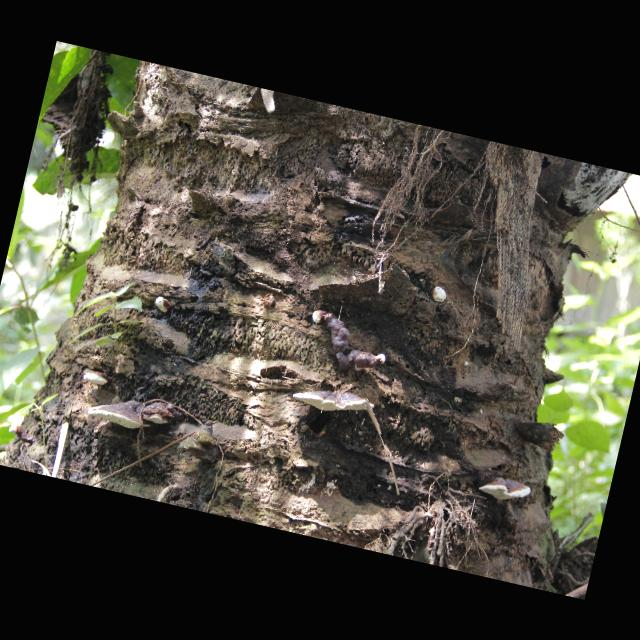ganoderma: (314, 313, 384, 380), (291, 380, 377, 424), (86, 392, 157, 435), (478, 474, 534, 509), (141, 398, 186, 430), (83, 369, 114, 388)
primordium: (154, 297, 173, 316), (431, 287, 449, 306), (311, 309, 327, 327), (9, 425, 27, 439), (375, 354, 386, 367), (464, 362, 470, 369)
